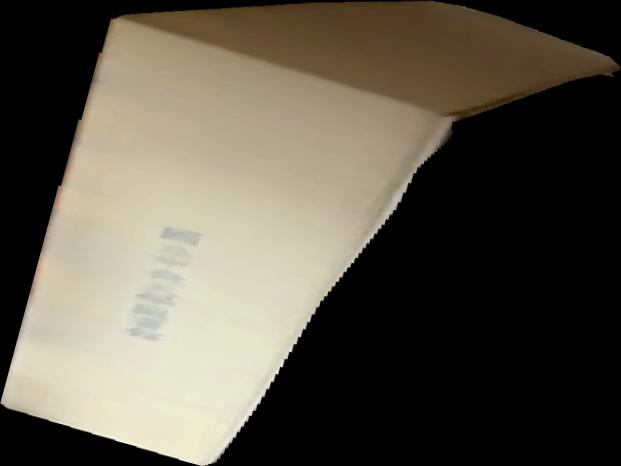backward: (1, 1, 621, 466)
